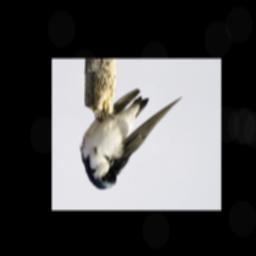Swallow: (79, 88, 182, 191)
